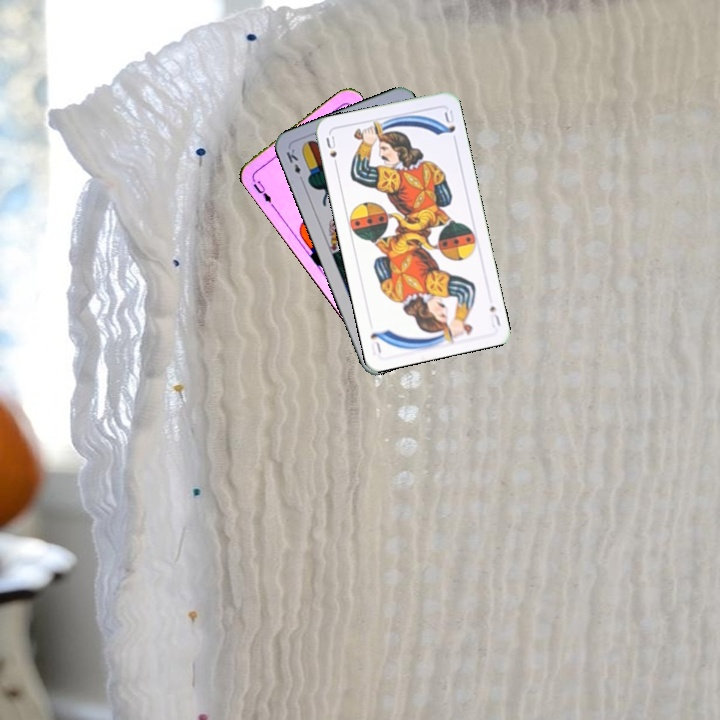EK: (282, 145, 306, 185)
EU: (248, 172, 276, 209)
SU: (322, 132, 340, 171), (486, 301, 503, 330)
